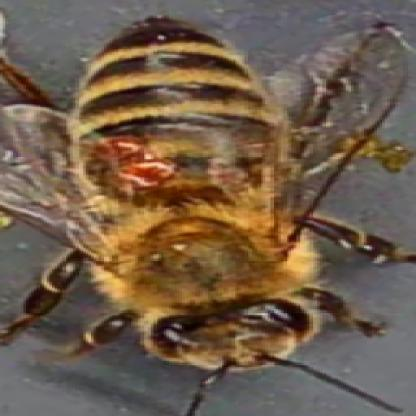bee: (74, 17, 344, 379)
vaoora: (130, 160, 175, 184), (96, 138, 140, 158)
